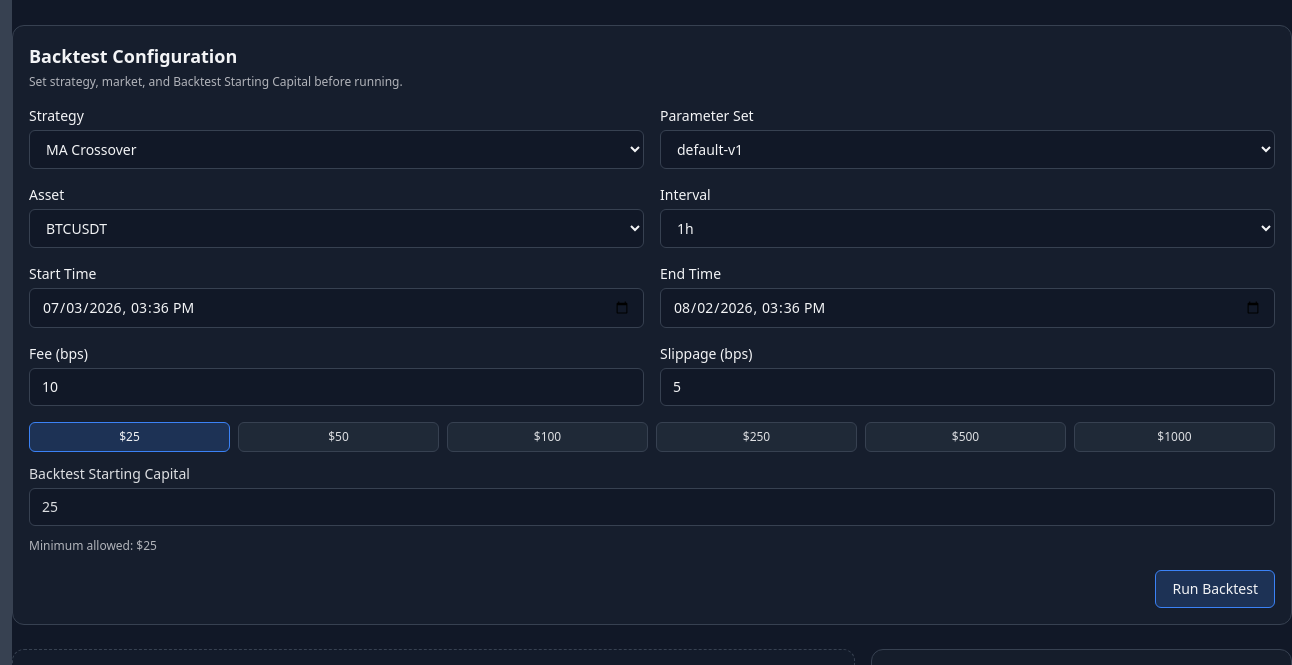
BacktestsPage › renders completed result metrics and trades
The width and height of the screenshot is (1292, 665).
Expected: the heading "Backtest Configuration" is shown, [29,44,237,68]
Click the button "Run Backtest". click: (1215, 589)
box: [1156,570,1275,608]
(page scrolled)
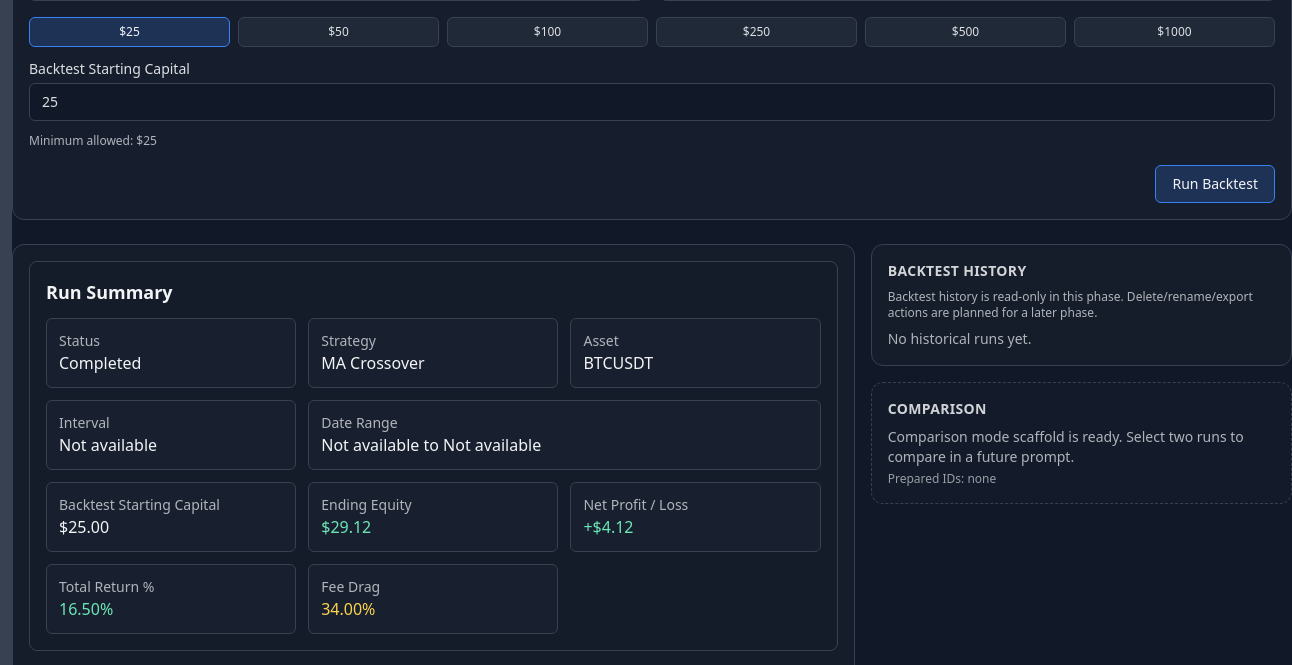
Result: the heading "Run Summary" is shown at [46,280,173,304]
Result: the text "$25.00" is shown at [59,516,109,538]
Result: the text "Ending Equity" is shown at [321,495,412,514]
